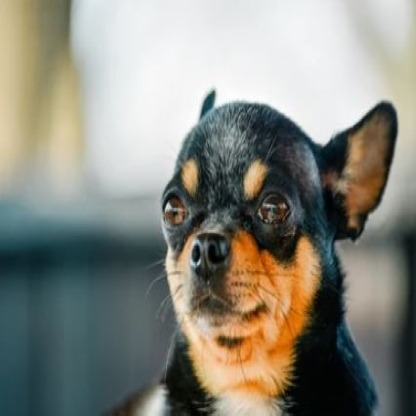chihuahua: (113, 86, 400, 416)
